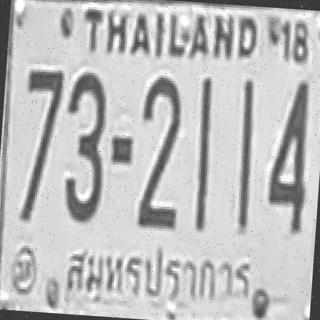N01: (236, 77, 256, 197), (194, 76, 214, 192)
N02: (136, 108, 181, 227)
N03: (59, 70, 108, 220), (59, 86, 108, 221)
N04: (264, 77, 312, 232)
N07: (22, 67, 64, 154)
P57: (60, 235, 256, 316)
